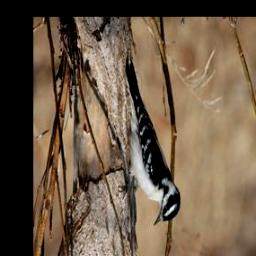Woodpecker: (118, 53, 181, 227)
